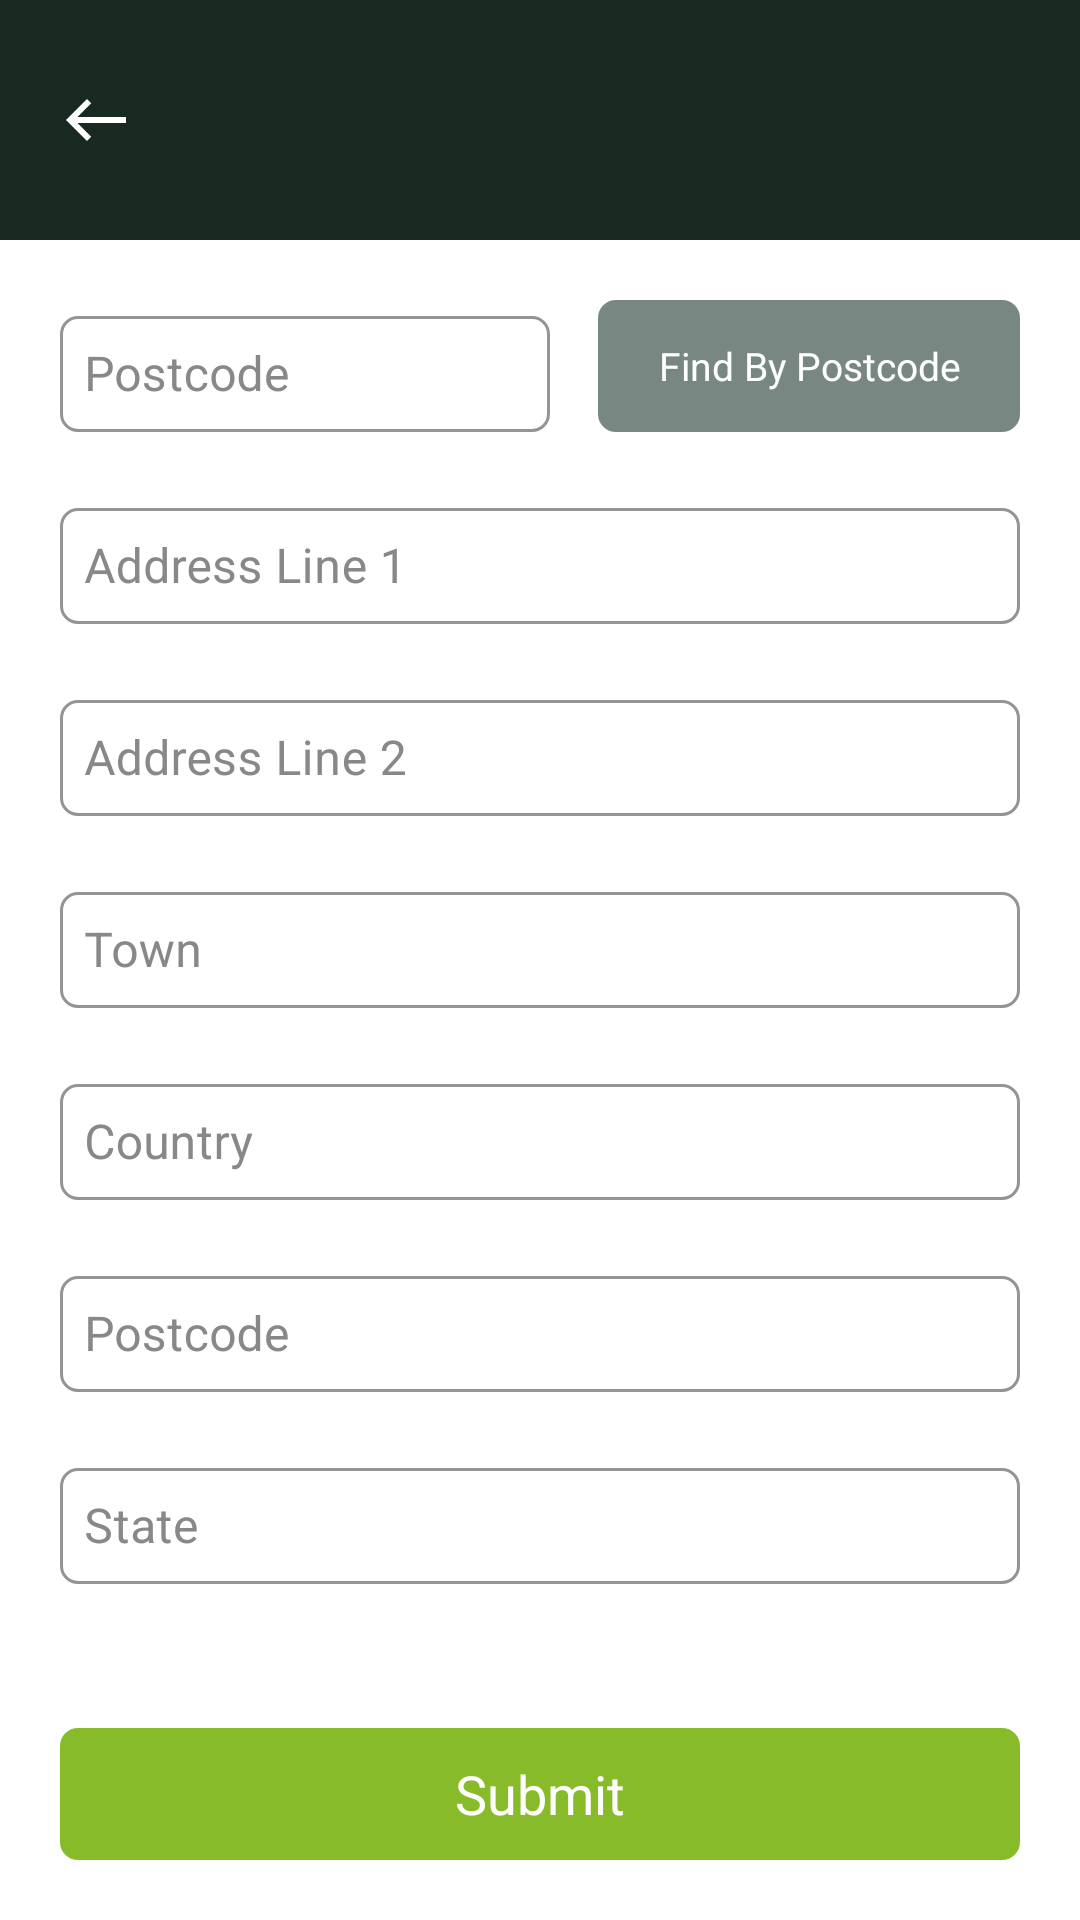

Icon click points for this 1080x1920 phone screenshot, format (x,y):
arrow back: (96,120)
